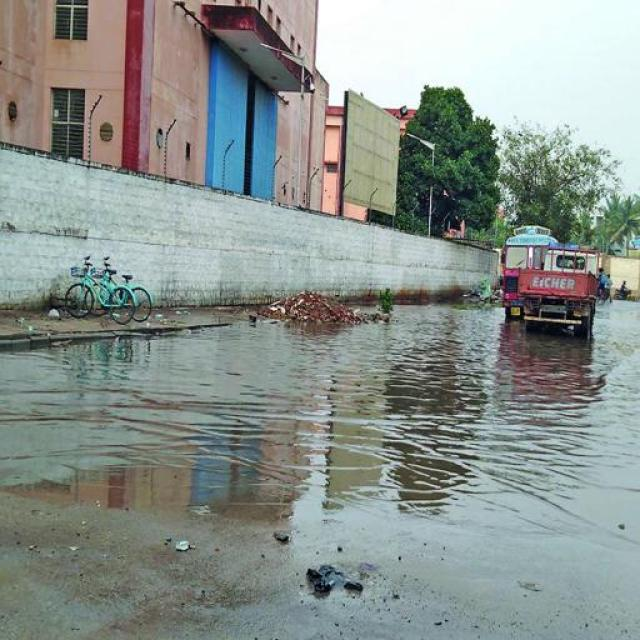puddle: (24, 352, 619, 512), (237, 327, 628, 388), (388, 299, 488, 425)
